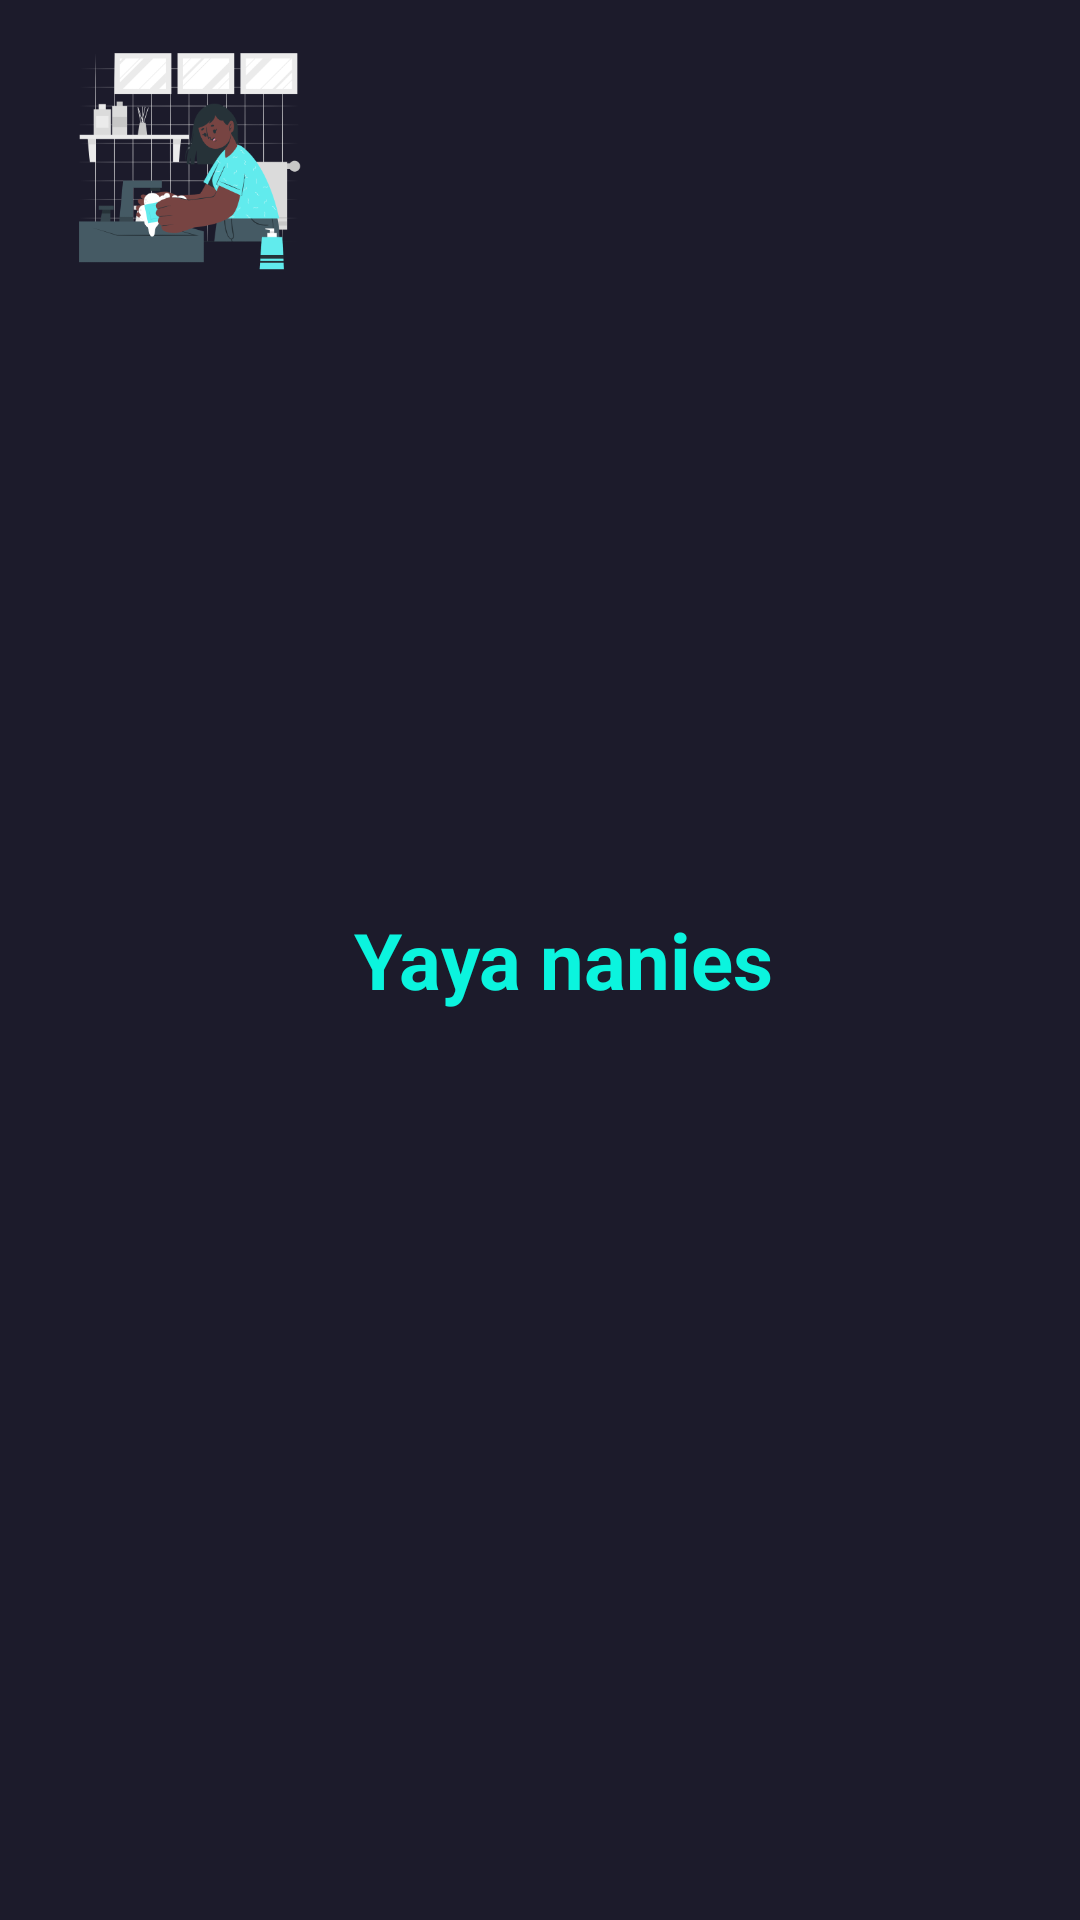

Named icons in this screenshot (1080x1920) and their centers, (x,y):
wash: (190,161)
